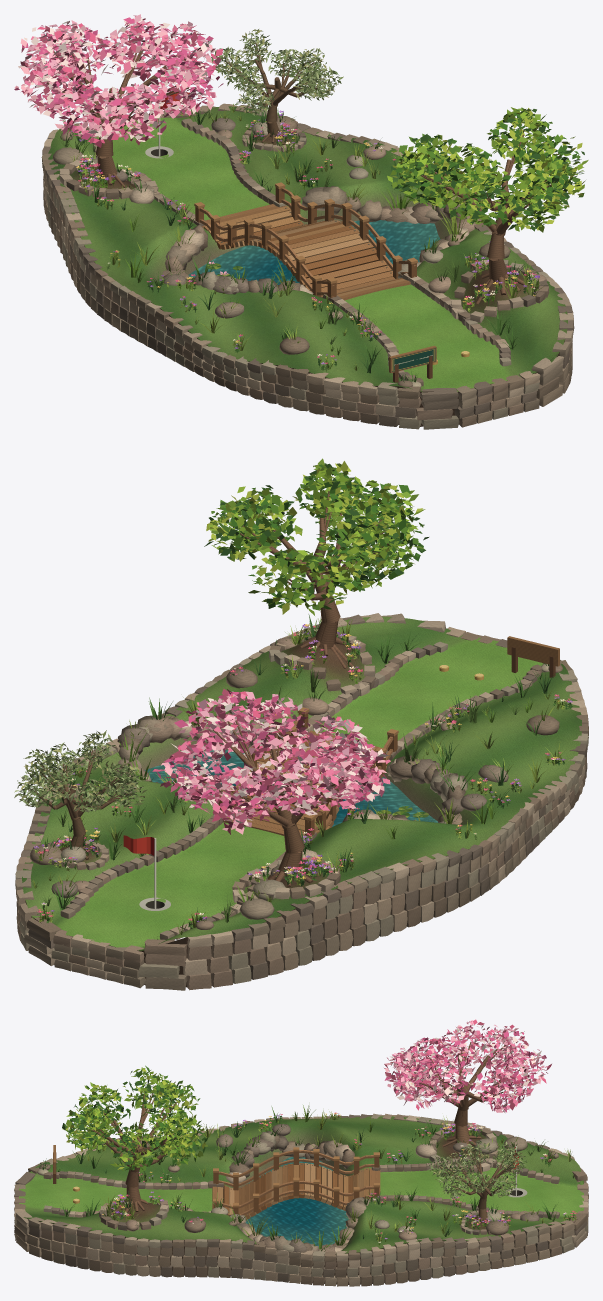
The model's file is hole-03.glb.
The picture shows the model from 3 angles, top to bottom: view 1: azimuth 30°, elevation 25°; view 2: azimuth 150°, elevation 25°; view 3: azimuth 270°, elevation 25°; orthographic projection. The views are drawn at different scales.
Visible parts, largest first — view 1: Hole 3 – Water Crossing; view 2: Hole 3 – Water Crossing; view 3: Hole 3 – Water Crossing.
Part boxes in pixels (<box>): Hole 3 – Water Crossing: <box>14,14,588,429</box>; Hole 3 – Water Crossing: <box>14,458,588,990</box>; Hole 3 – Water Crossing: <box>14,1019,588,1286</box>.
Bounding box in the file's own units: 1.6 × 0.8737 × 2.82.
8 materials, 5 textured.
